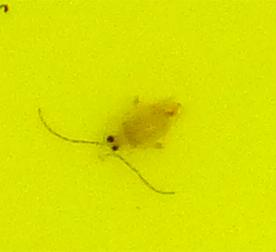Coleoptera: (100, 100, 176, 152)
